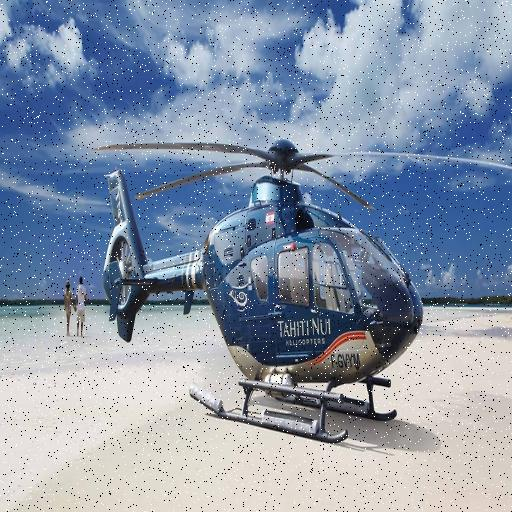helicopter: (86, 89, 450, 465)
